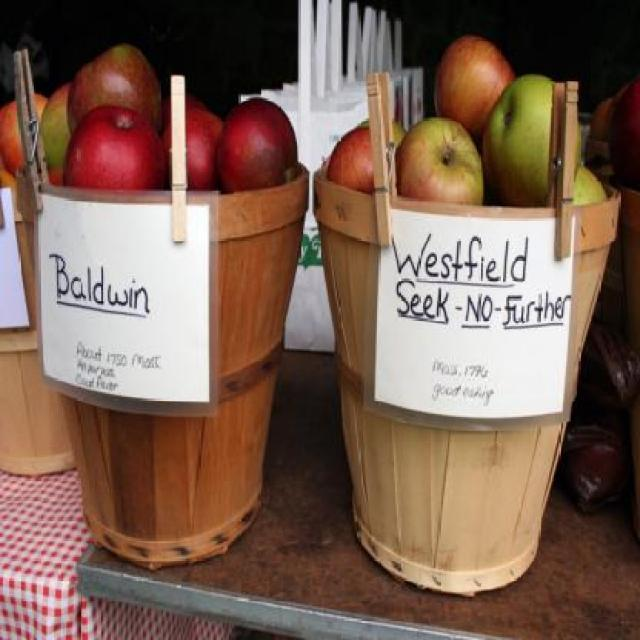Apple pie: (324, 36, 608, 209), (0, 40, 302, 196), (398, 111, 494, 206), (612, 79, 640, 190)
